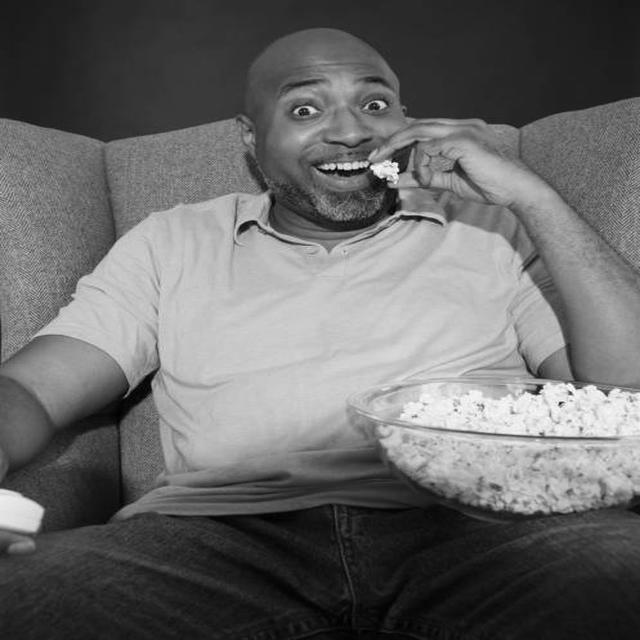Surprised: (254, 37, 412, 221)
